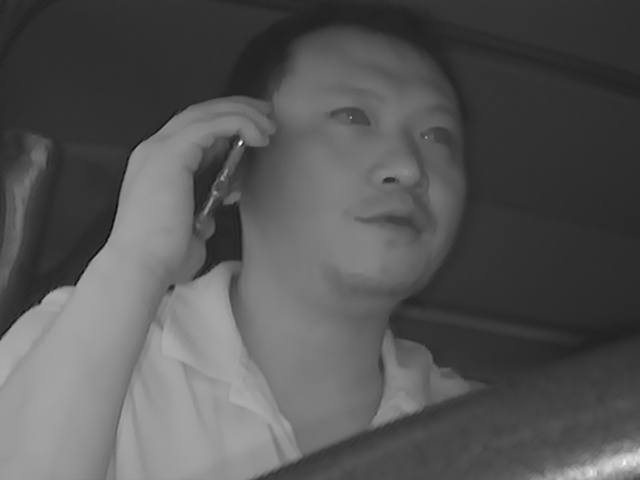hand: (113, 95, 255, 276)
